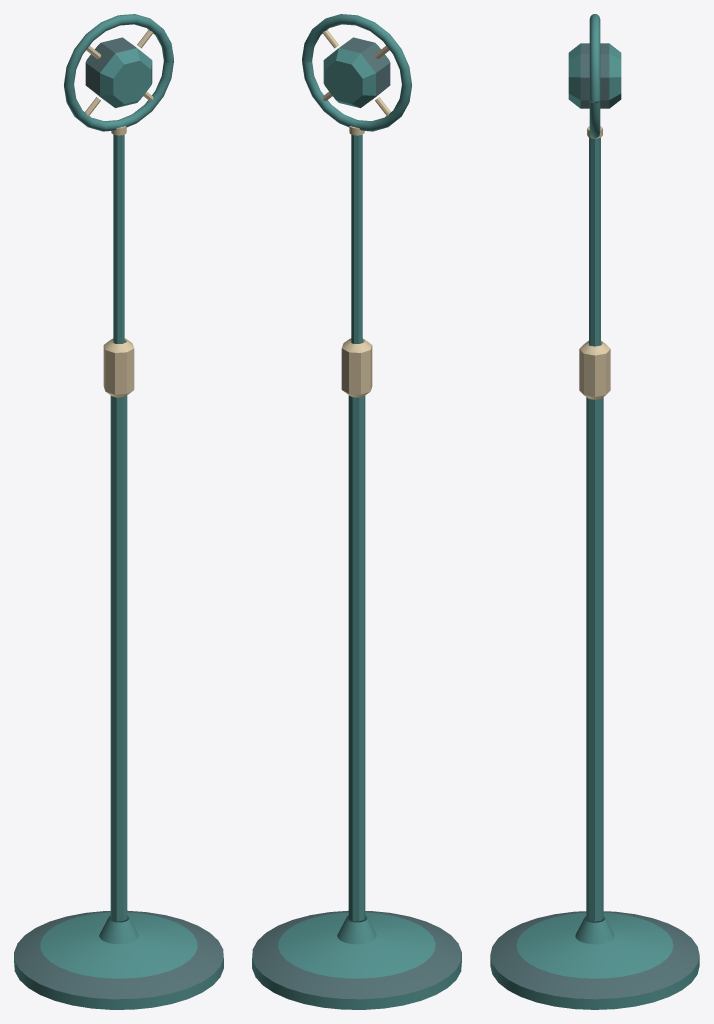
The model's file is KC32__AD_Int_Mic_Stand.glb.
The picture shows the model from 3 angles, left to right: view 1: azimuth 30°, elevation 25°; view 2: azimuth 150°, elevation 25°; view 3: azimuth 270°, elevation 25°; orthographic projection.
Visible parts, largest first — view 1: KC32_CORPS__AD_Int_Mic_Stand, KC32_BRONZE__AD_Int_Mic_Stand; view 2: KC32_CORPS__AD_Int_Mic_Stand, KC32_BRONZE__AD_Int_Mic_Stand; view 3: KC32_CORPS__AD_Int_Mic_Stand, KC32_BRONZE__AD_Int_Mic_Stand.
Boxes of the visible parts, left/top/right/bottom form: KC32_CORPS__AD_Int_Mic_Stand: left=14, top=14, right=223, bottom=1009; KC32_BRONZE__AD_Int_Mic_Stand: left=85, top=30, right=153, bottom=397; KC32_CORPS__AD_Int_Mic_Stand: left=252, top=14, right=461, bottom=1009; KC32_BRONZE__AD_Int_Mic_Stand: left=322, top=30, right=390, bottom=397; KC32_CORPS__AD_Int_Mic_Stand: left=490, top=14, right=699, bottom=1009; KC32_BRONZE__AD_Int_Mic_Stand: left=579, top=126, right=610, bottom=399.
Bounding box in the file's own units: 0.32 × 1.6 × 0.32.
